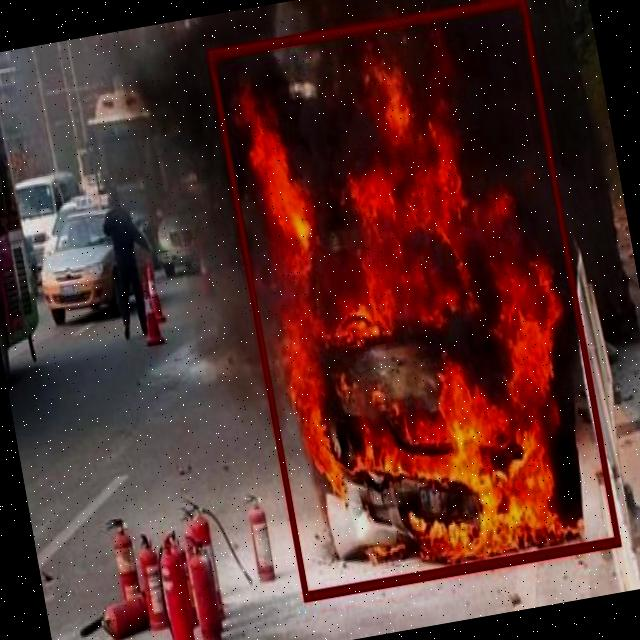fire: (207, 0, 621, 599)
